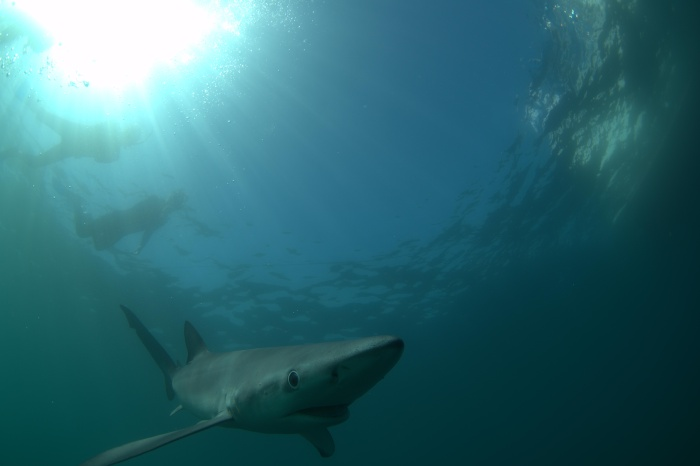Azul: (78, 302, 421, 466)
